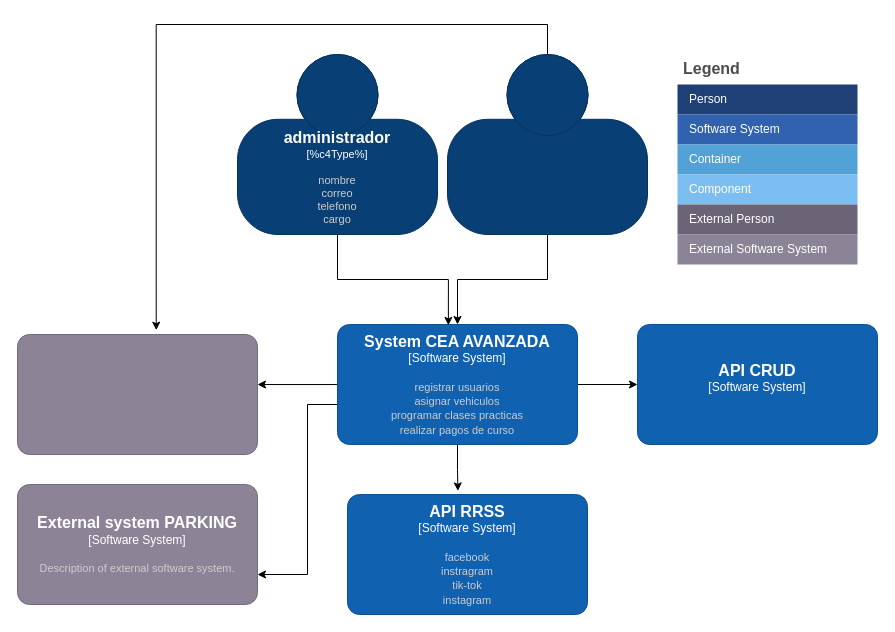
Image size: 895x632. Some labels were removed from this diagram. Each missing label, with the box of its shape:
customer [%c4Type%] nombre direccion telefono correo licencia: (446, 54, 648, 234)
External system Banks [Software System] Description of external software system.: (16, 334, 258, 454)
